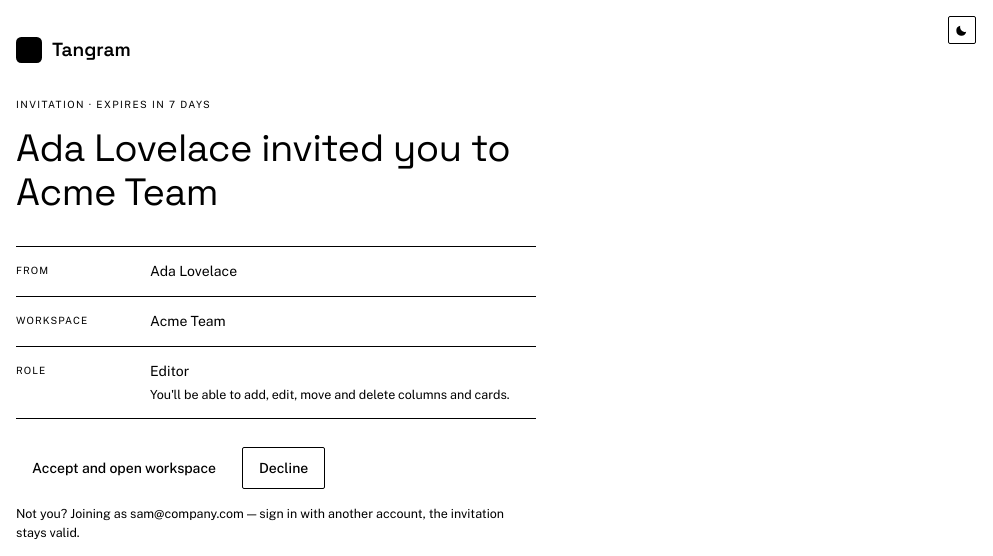
Test: InviteView — signed in, opened the link › disables both buttons while one is in flight
The width and height of the screenshot is (993, 556).
Click the button "Accept and open workspace": (124, 468) [16,448,232,488]
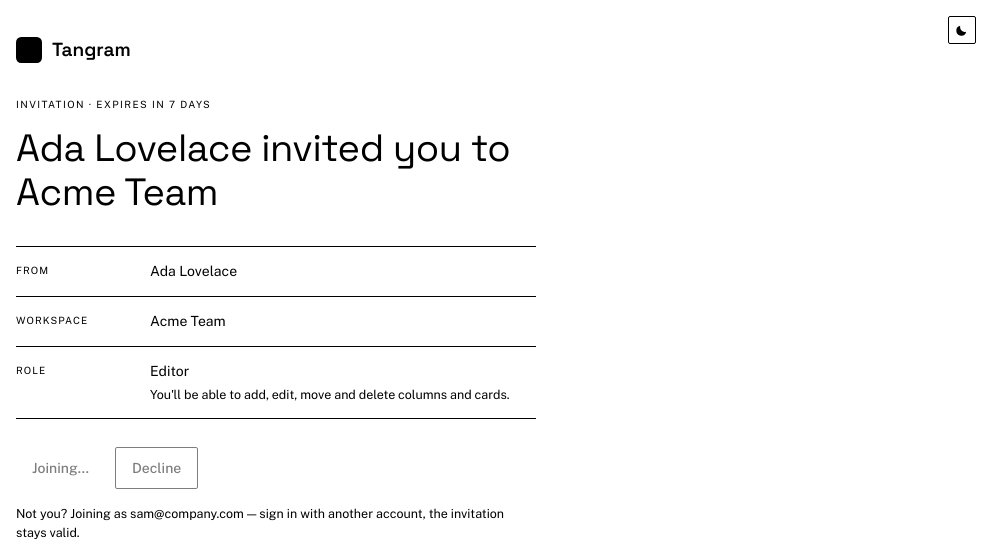
Check: the button "Joining…" is disabled, box [16,448,105,488]
Check: the button "Decline" is disabled, box [115,447,198,489]
